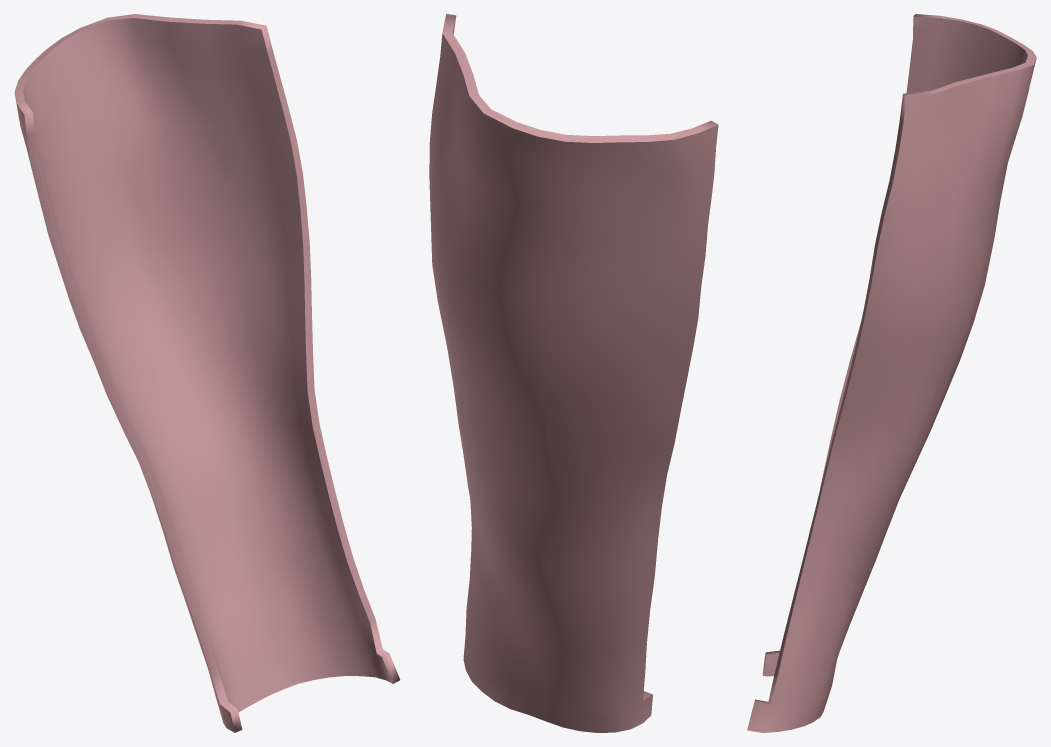
3 renders of one model, left to right at view 1: azimuth 30°, elevation 25°; view 2: azimuth 150°, elevation 25°; view 3: azimuth 270°, elevation 25°, orthographic. The views are drawn at different scales.
Parts seen in each view (by area): view 1: ZA_666de7db6e1d64ec; view 2: ZA_666de7db6e1d64ec; view 3: ZA_666de7db6e1d64ec.
Part boxes in pixels (x1,y1,x2,y2): ZA_666de7db6e1d64ec: [14, 14, 400, 732]; ZA_666de7db6e1d64ec: [429, 14, 718, 732]; ZA_666de7db6e1d64ec: [747, 14, 1036, 732].
Bounding box in the file's own units: 0.1145 × 0.2364 × 0.0984.
